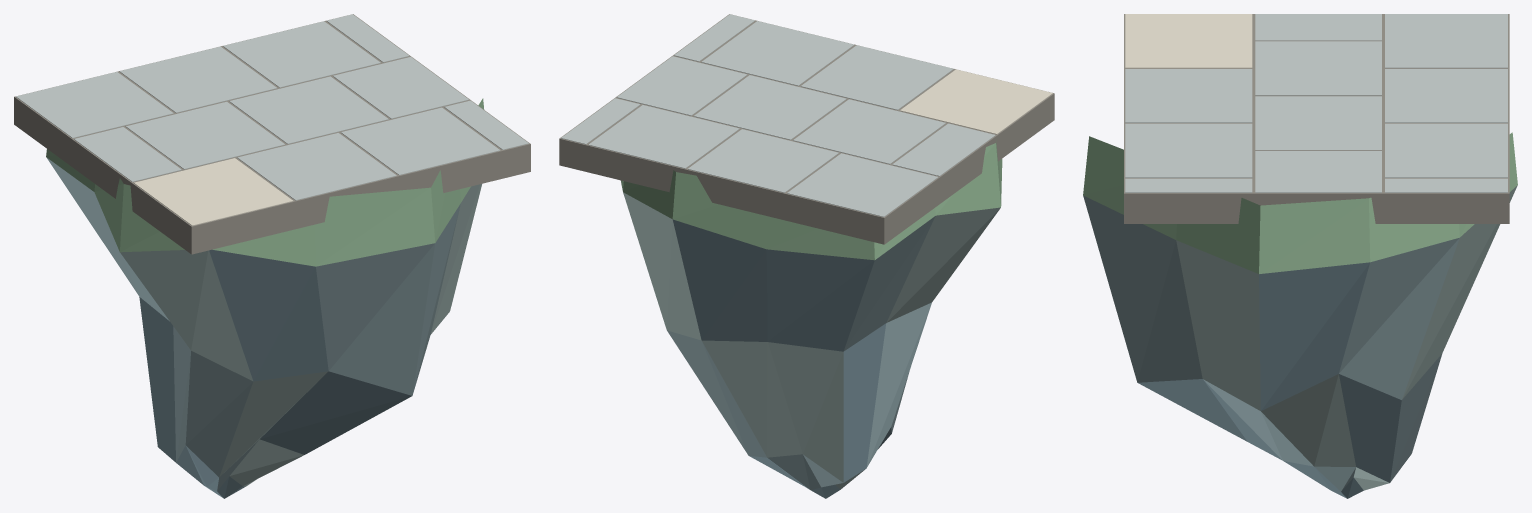
The model's file is FloatingIsland18.glb.
3 views of the same model, side by side, from view 1: azimuth 30°, elevation 25°; view 2: azimuth 150°, elevation 25°; view 3: azimuth 270°, elevation 25° (orthographic). The views are drawn at different scales.
Parts seen in each view (by area): view 1: FloatingIsland18; view 2: FloatingIsland18; view 3: FloatingIsland18.
Part boxes in pixels (x1,y1,x2,y2): FloatingIsland18: (14,14,530,498); FloatingIsland18: (559,14,1054,498); FloatingIsland18: (1083,14,1517,498).
Bounding box in the file's own units: 3.72 × 3.69 × 3.52.
